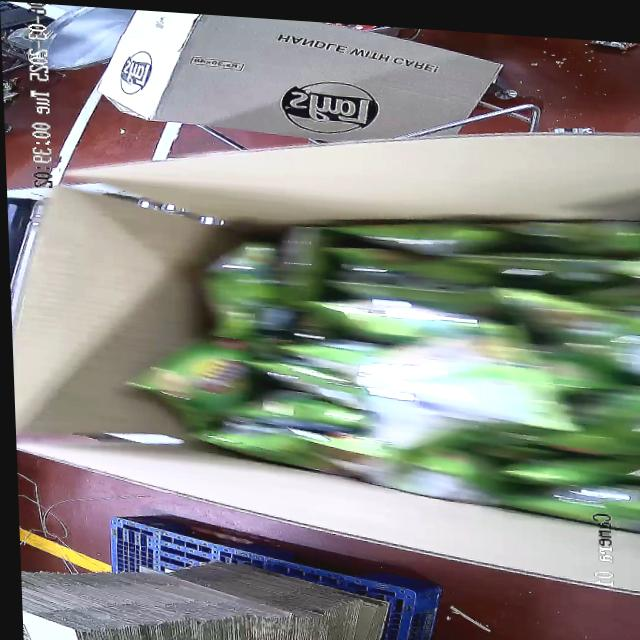YOGURT_HERB: (116, 185, 640, 535)
